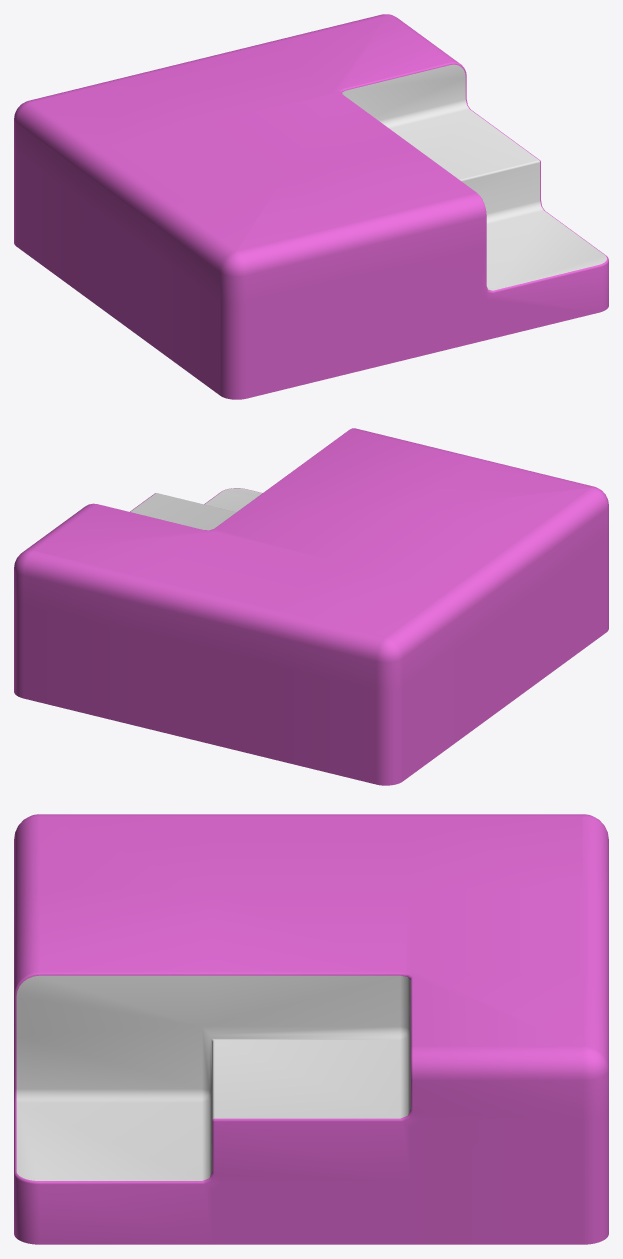
Rendered from Mining_Flat_DugOut_Top_02.fbx.
3 renders of one model, top to bottom at view 1: azimuth 30°, elevation 25°; view 2: azimuth 150°, elevation 25°; view 3: azimuth 270°, elevation 25°, orthographic. The views are drawn at different scales.
Parts seen in each view (by area): view 1: Mining_Top_DugOut 02; view 2: Mining_Top_DugOut 02; view 3: Mining_Top_DugOut 02.
Boxes of the visible parts, x1,y1,x2,y2 form: Mining_Top_DugOut 02: (14,14,608,399); Mining_Top_DugOut 02: (14,428,608,785); Mining_Top_DugOut 02: (14,814,608,1244).
Bounding box in the file's own units: 5.75 × 5.75 × 2.
